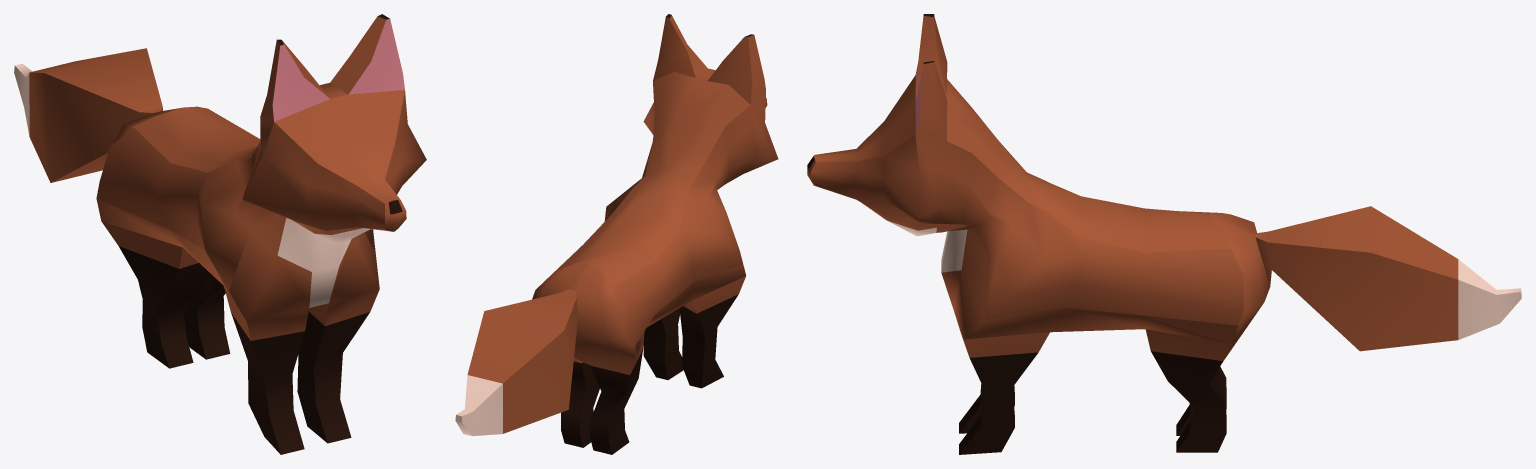
File: fox.glb
3 renders of one model, left to right at view 1: azimuth 30°, elevation 25°; view 2: azimuth 150°, elevation 25°; view 3: azimuth 270°, elevation 25°, orthographic. The views are drawn at different scales.
Visible parts, largest first — view 1: pCylinder1; view 2: pCylinder1; view 3: pCylinder1.
Boxes of the visible parts, x1,y1,x2,y2 form: pCylinder1: (14, 14, 426, 454); pCylinder1: (455, 14, 778, 454); pCylinder1: (807, 14, 1521, 454).
Size of the model in its own units: 0.1934 by 0.444 by 0.717.
1 material, 1 textured.
